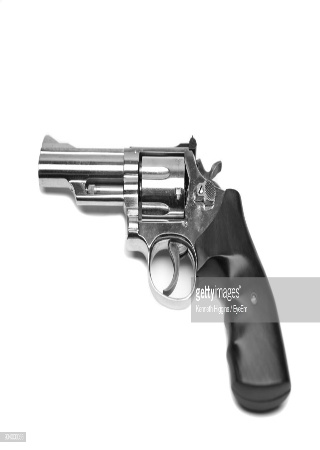handgun: (34, 133, 292, 415)
